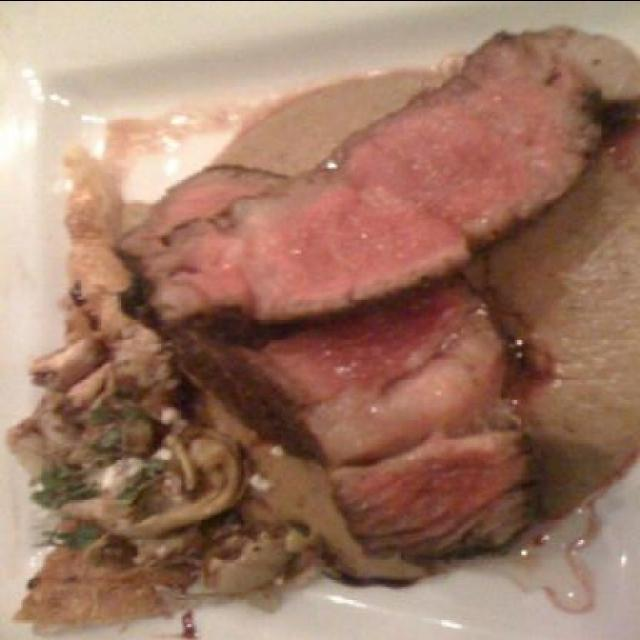Steak: (116, 8, 638, 596)
